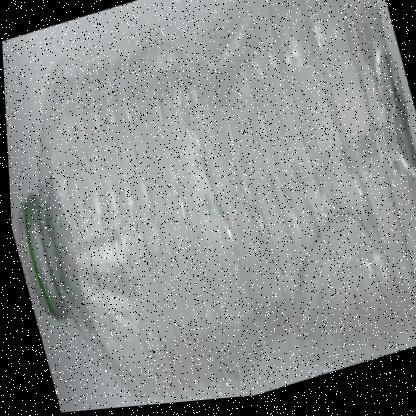open bottle: (2, 22, 155, 416)
